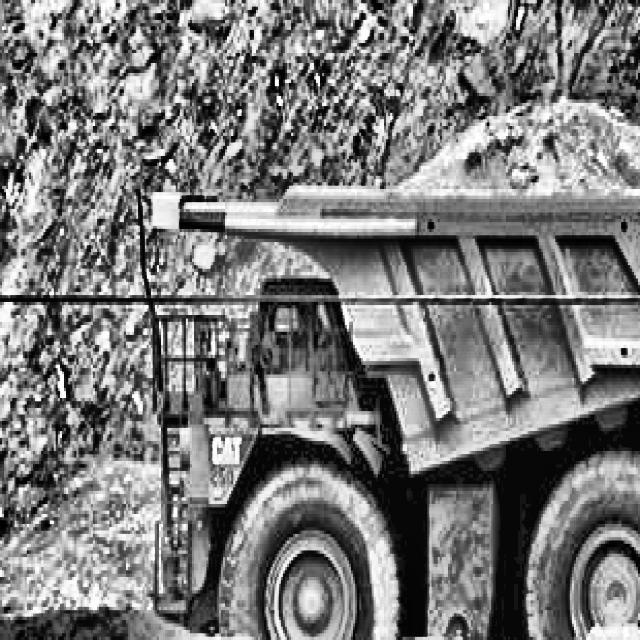dump_truck: (109, 129, 640, 640)
